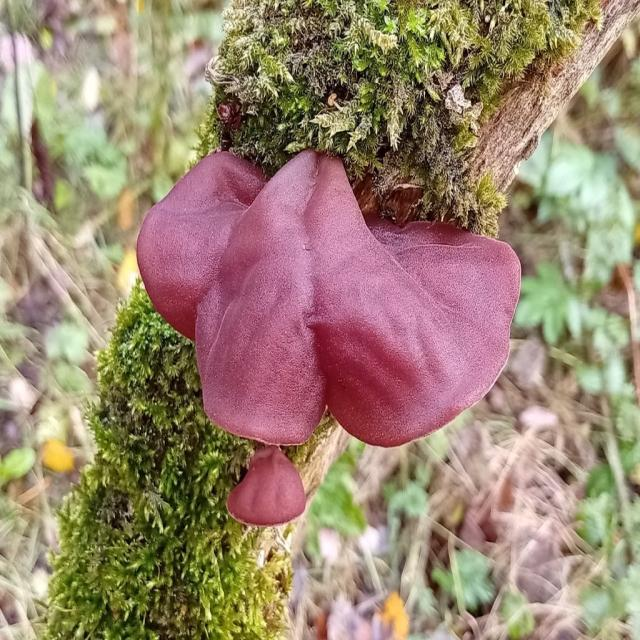Matang: (135, 131, 538, 459)
